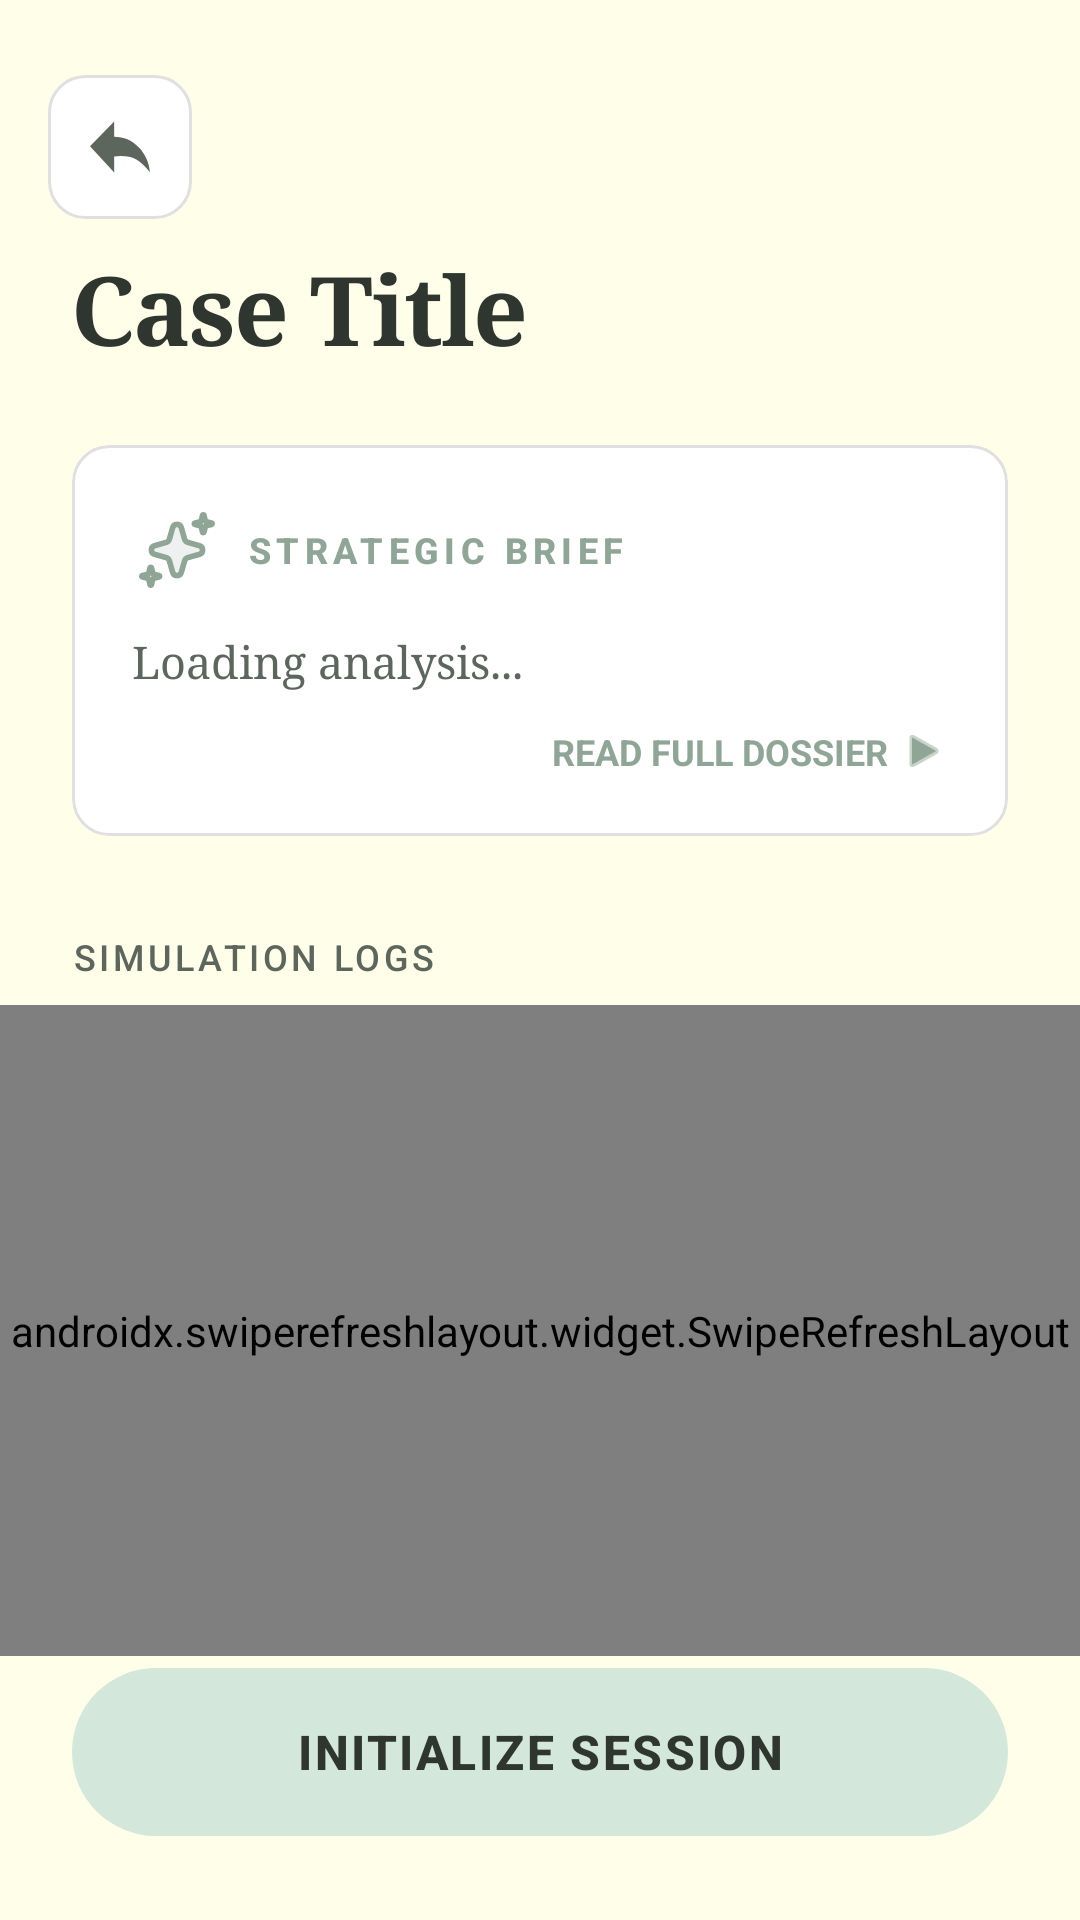

Where to tap for icons on this 1080px×1920px app screen, as point (x, y):
back: point (120, 147)
play: point (924, 751)
